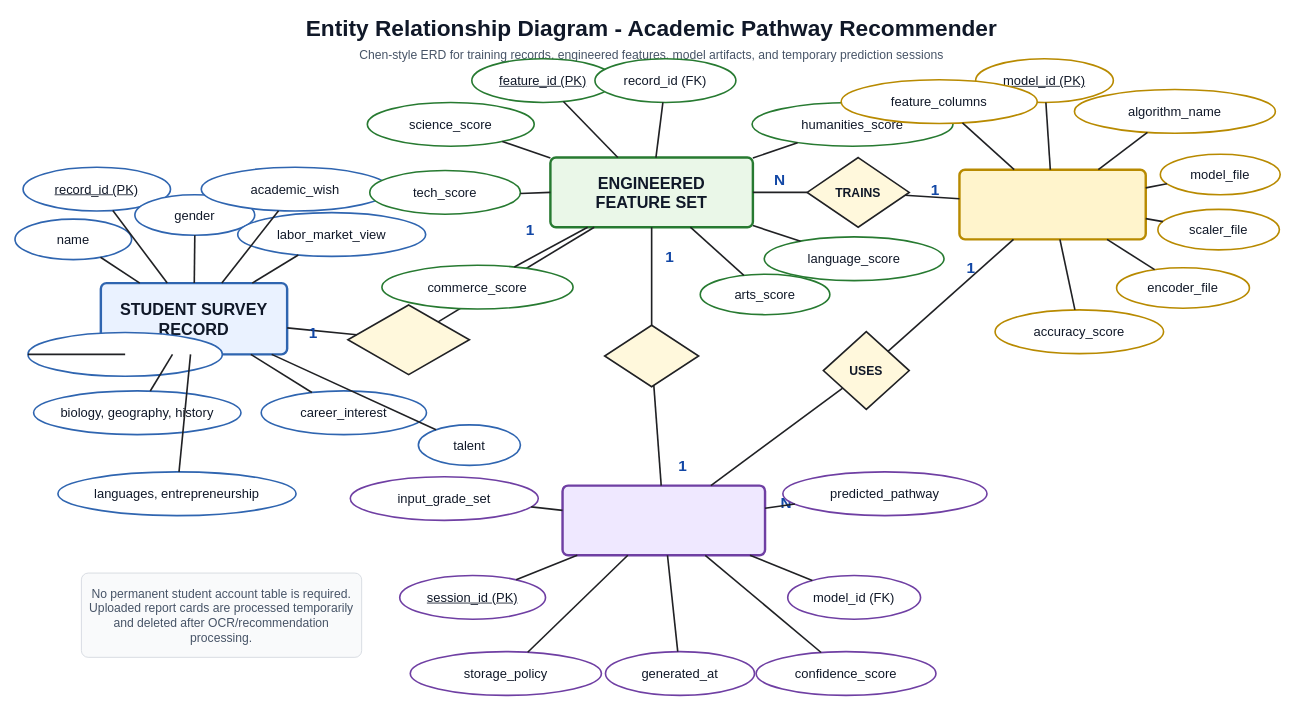
This 1294x710 diagram has some shape labels left out. Each missing label, with the centre of its shape:
COMPUTES: the point at 651,355
math, physics, chemistry: the point at 125,354
MODEL ARTIFACT: the point at 1052,204
PREDICTION SESSION: the point at 663,520
TRANSFORMS: the point at 408,339
